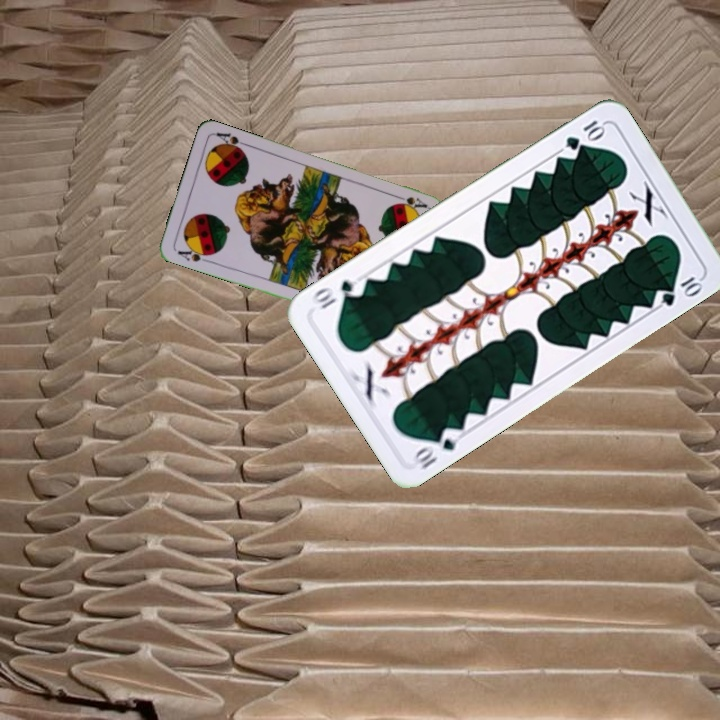G10: (411, 423, 464, 472), (561, 116, 608, 153)
SA: (173, 242, 214, 265), (389, 191, 429, 212)
